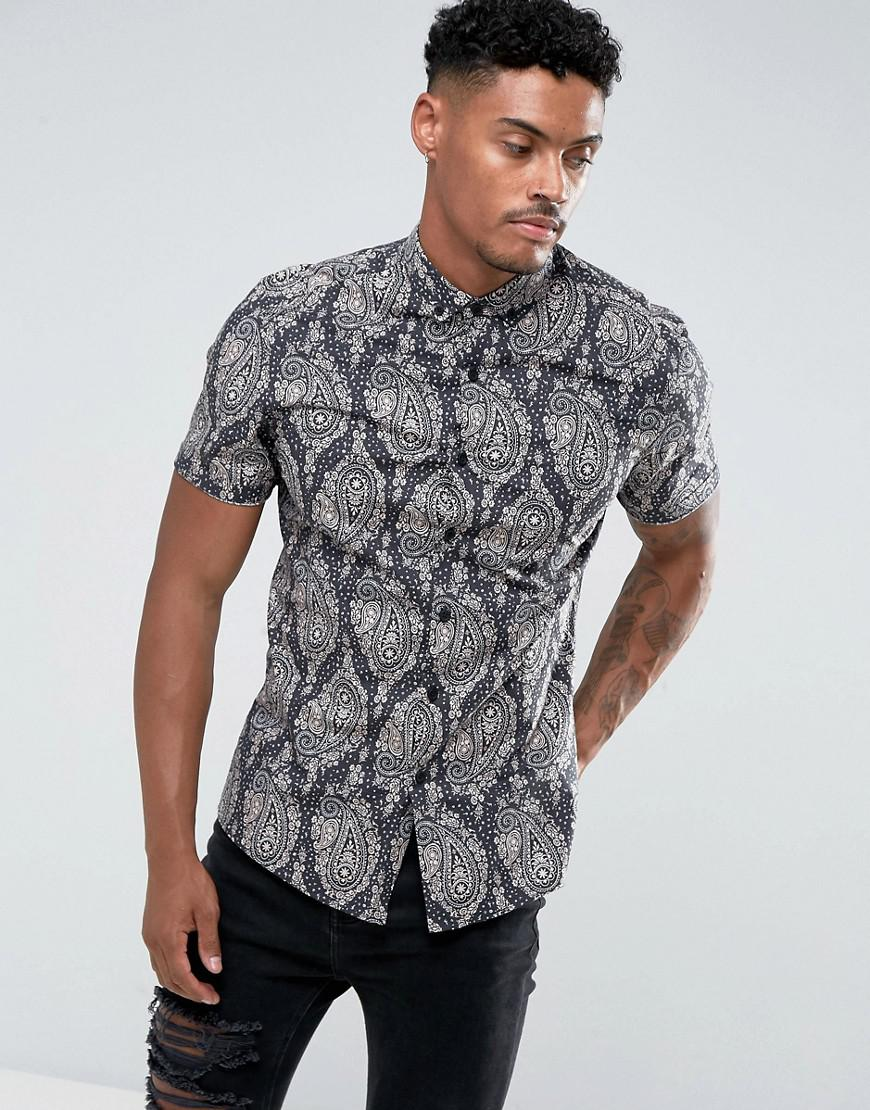teeshirt: (162, 237, 724, 934)
